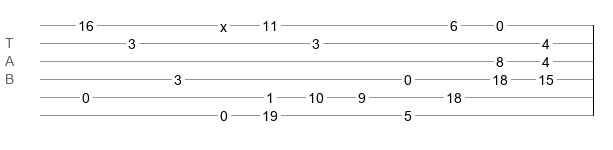0: (82, 90, 90, 100), (220, 108, 228, 118), (404, 72, 412, 82), (496, 18, 504, 28)
1: (266, 90, 274, 100)
10: (308, 90, 324, 100)
11: (262, 18, 278, 28)
15: (538, 72, 554, 82)
16: (78, 18, 94, 28)
18: (446, 90, 462, 100), (492, 72, 508, 82)
19: (262, 108, 278, 118)
3: (128, 36, 136, 46), (174, 72, 182, 82), (312, 36, 320, 46)
4: (542, 54, 550, 64), (542, 36, 550, 46)
5: (404, 108, 412, 118)
6: (450, 18, 458, 28)
8: (496, 54, 504, 64)
9: (358, 90, 366, 100)
x: (220, 19, 227, 27)
